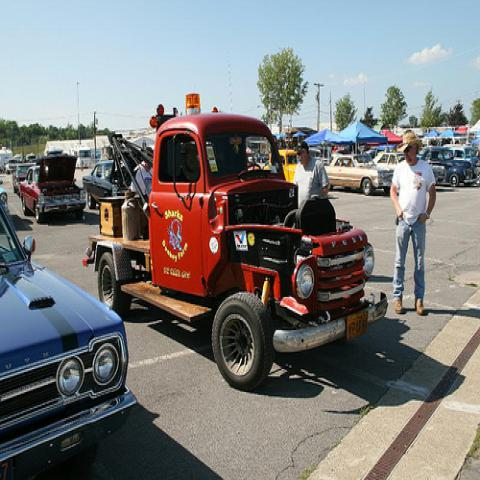car: (2, 192, 140, 473), (17, 153, 89, 224), (326, 152, 392, 195), (421, 147, 477, 187), (82, 160, 118, 210), (262, 149, 297, 183), (12, 162, 37, 197), (377, 152, 405, 181), (444, 144, 478, 166), (370, 147, 377, 156)
truck: (81, 92, 391, 392)
